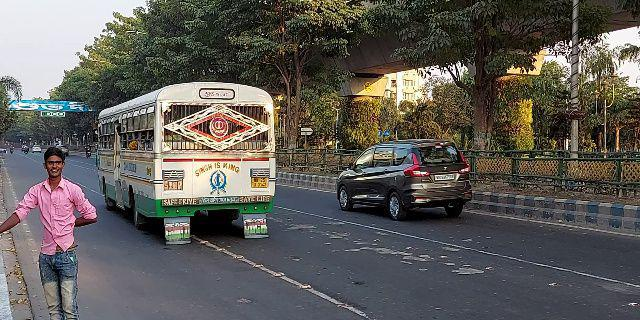Bus: (93, 77, 279, 248)
Car: (335, 141, 473, 220)
